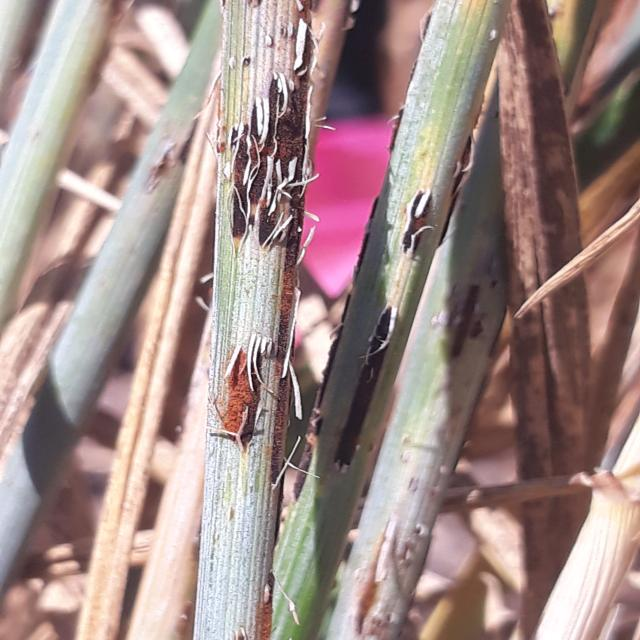black_stem_rust: (39, 1, 639, 640)
